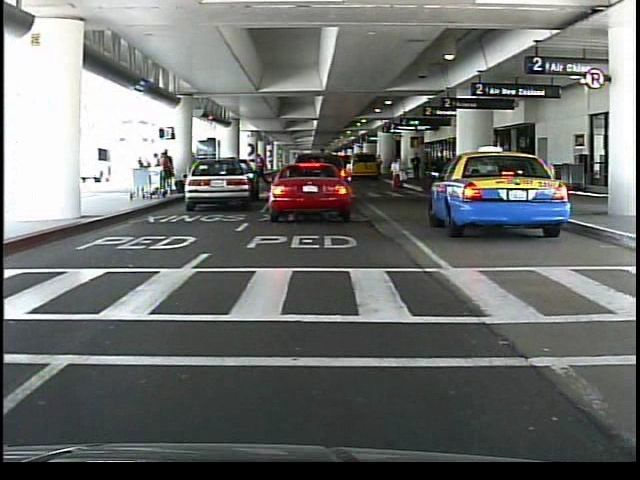person: (162, 148, 177, 198), (255, 153, 273, 193), (318, 154, 332, 202), (391, 152, 406, 189), (302, 165, 314, 202), (412, 152, 424, 185)
